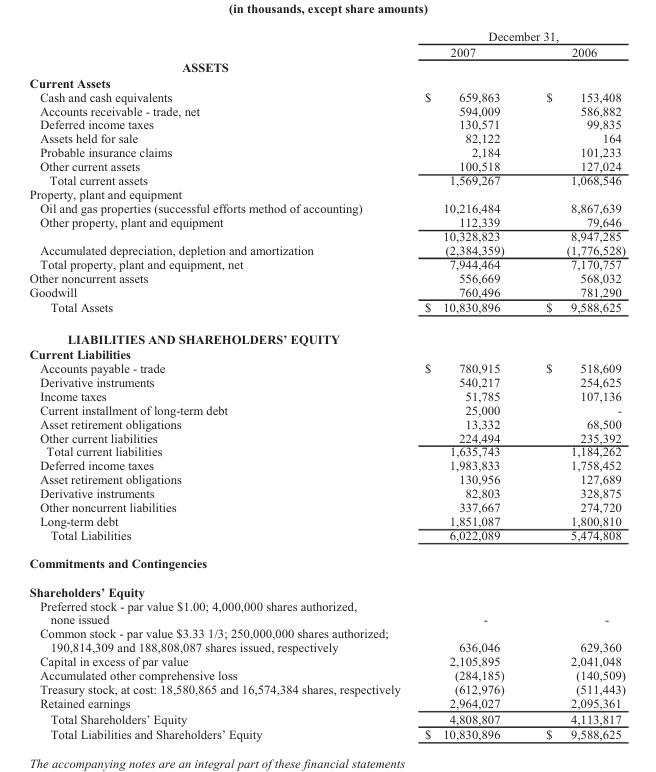table: (28, 29, 625, 741)
table column: (28, 29, 411, 741), (411, 29, 524, 741), (524, 29, 625, 741)
table column header: (28, 29, 625, 59)
table projected row header: (28, 548, 625, 577), (28, 322, 625, 346), (28, 577, 625, 598), (28, 59, 625, 74), (28, 74, 625, 89), (28, 186, 625, 200), (28, 346, 625, 360)
table row: (28, 548, 625, 577), (28, 598, 625, 626), (28, 626, 625, 654), (28, 322, 625, 346), (28, 299, 625, 322), (28, 527, 625, 548), (28, 577, 625, 598), (28, 43, 625, 59), (28, 710, 625, 726), (28, 59, 625, 74), (28, 74, 625, 89), (28, 284, 625, 299), (28, 695, 625, 710), (28, 726, 625, 741), (28, 29, 625, 43), (28, 89, 625, 103), (28, 103, 625, 117), (28, 117, 625, 131), (28, 131, 625, 145), (28, 145, 625, 159), (28, 159, 625, 173), (28, 186, 625, 200), (28, 200, 625, 214), (28, 214, 625, 228), (28, 228, 625, 242), (28, 242, 625, 256), (28, 256, 625, 270), (28, 270, 625, 284), (28, 346, 625, 360), (28, 360, 625, 374), (28, 374, 625, 388), (28, 388, 625, 402), (28, 402, 625, 416), (28, 416, 625, 430), (28, 430, 625, 444), (28, 444, 625, 458), (28, 458, 625, 472), (28, 472, 625, 486), (28, 499, 625, 513), (28, 513, 625, 527), (28, 667, 625, 681), (28, 681, 625, 695), (28, 173, 625, 186), (28, 486, 625, 499), (28, 654, 625, 667)
table spanning cell: (411, 29, 625, 43)
